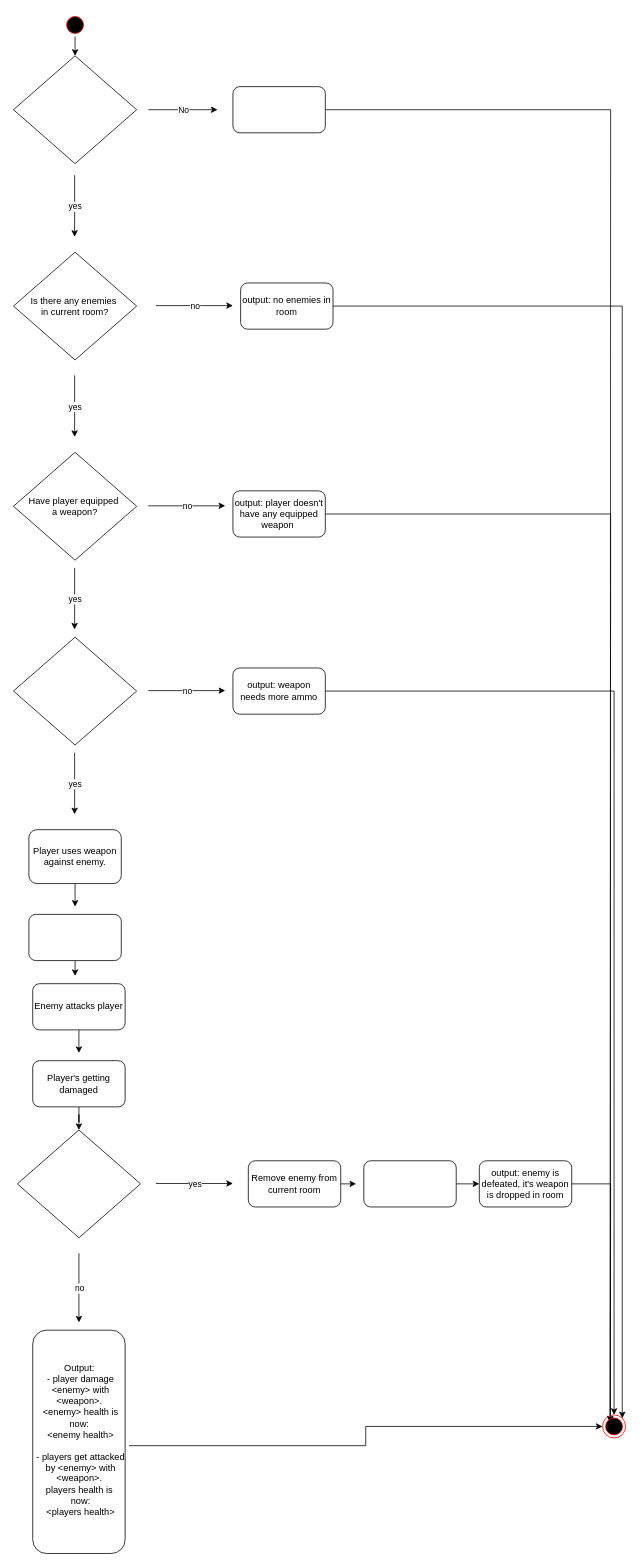
Image size: 642x1567. Some labels were removed from this diagram. The shapes that lost their labels are listed below. From the top down, each one's centre as x and y in pixels, then its label:
point (75, 109): Is players health over 15?
point (278, 109): output: player needs to find food before attacking
point (75, 690): Can weapon be used? (has it enough ammo)
point (74, 937): Enemy's getting damaged
point (79, 1183): does enemy has a health = 0?
point (409, 1183): Add enemy's weapon to current room
